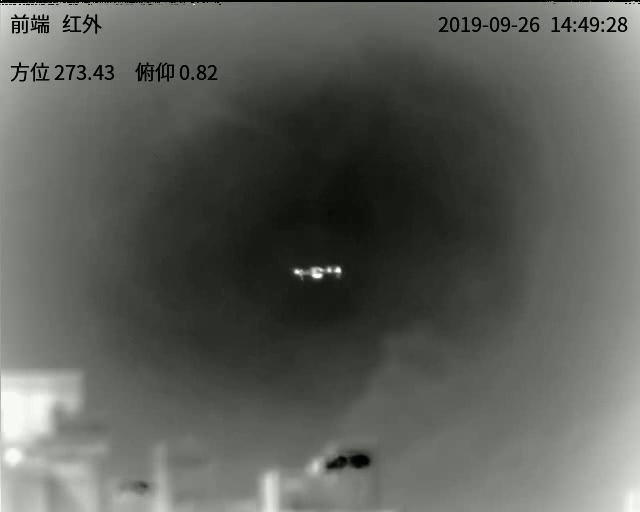DRONE: (293, 263, 343, 282)
